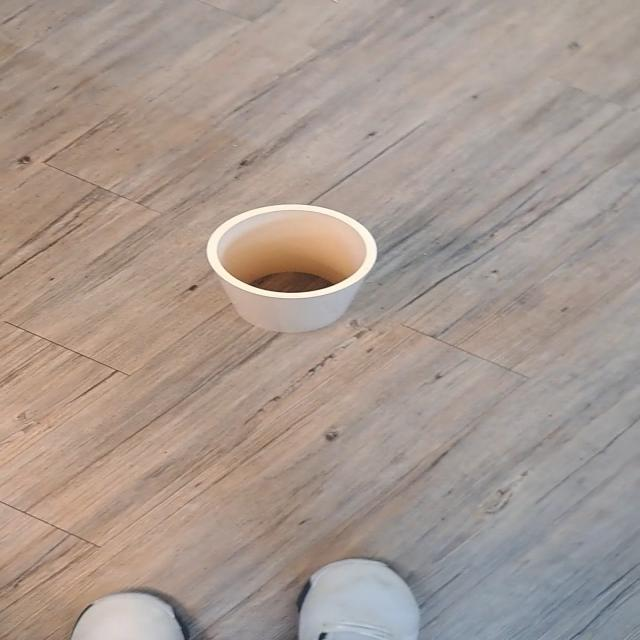CORAL: (193, 195, 402, 344)
